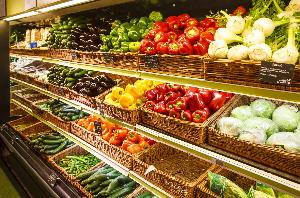bell_pepper: (142, 82, 234, 124), (72, 116, 156, 154), (144, 14, 220, 54), (103, 12, 160, 52), (104, 77, 154, 109), (56, 147, 103, 177)
cucumber: (81, 166, 138, 198), (44, 15, 76, 50), (30, 128, 68, 156), (44, 61, 80, 90), (44, 98, 86, 122)
eggplant: (68, 16, 108, 54), (75, 72, 115, 98)
